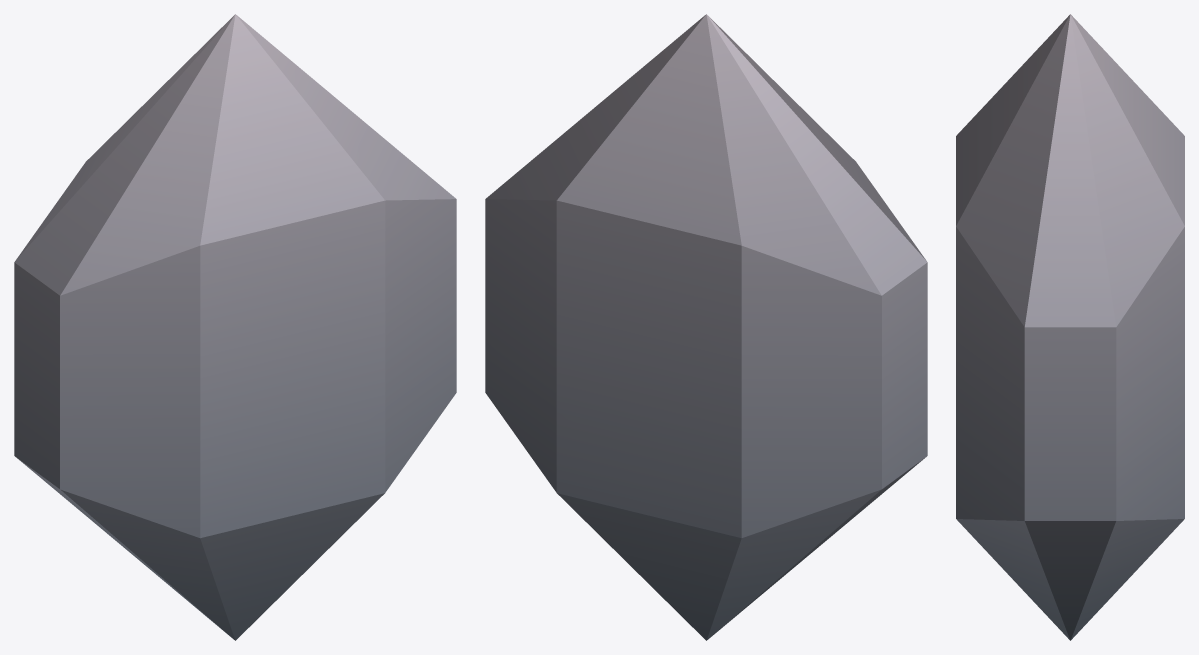
Rendered from Ruby.fbx.
3 renders of one model, left to right at view 1: azimuth 30°, elevation 25°; view 2: azimuth 150°, elevation 25°; view 3: azimuth 270°, elevation 25°, orthographic.
Visible parts, largest first — view 1: Ruby; view 2: Ruby; view 3: Ruby.
Part boxes in pixels (x1,y1,x2,y2): Ruby: [14, 14, 456, 640]; Ruby: [485, 14, 927, 640]; Ruby: [956, 14, 1184, 640].
Size of the model in its own units: 164 by 248 by 81.98.
